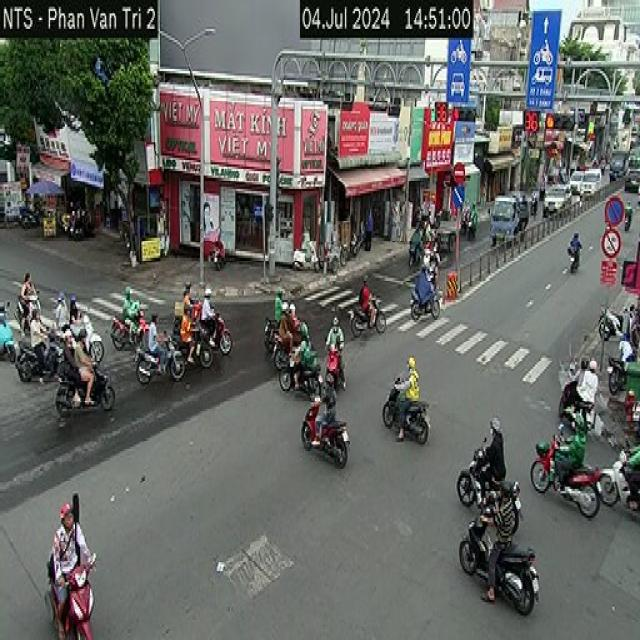Red: (547, 112, 574, 135), (452, 104, 476, 123)
